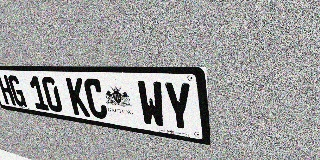0: (40, 77, 63, 113)
1: (27, 76, 49, 111)
C: (83, 78, 109, 120)
G: (7, 75, 27, 107)
H: (0, 75, 16, 106)
K: (65, 78, 90, 117)
W: (136, 80, 167, 129)
Y: (162, 81, 195, 133)
